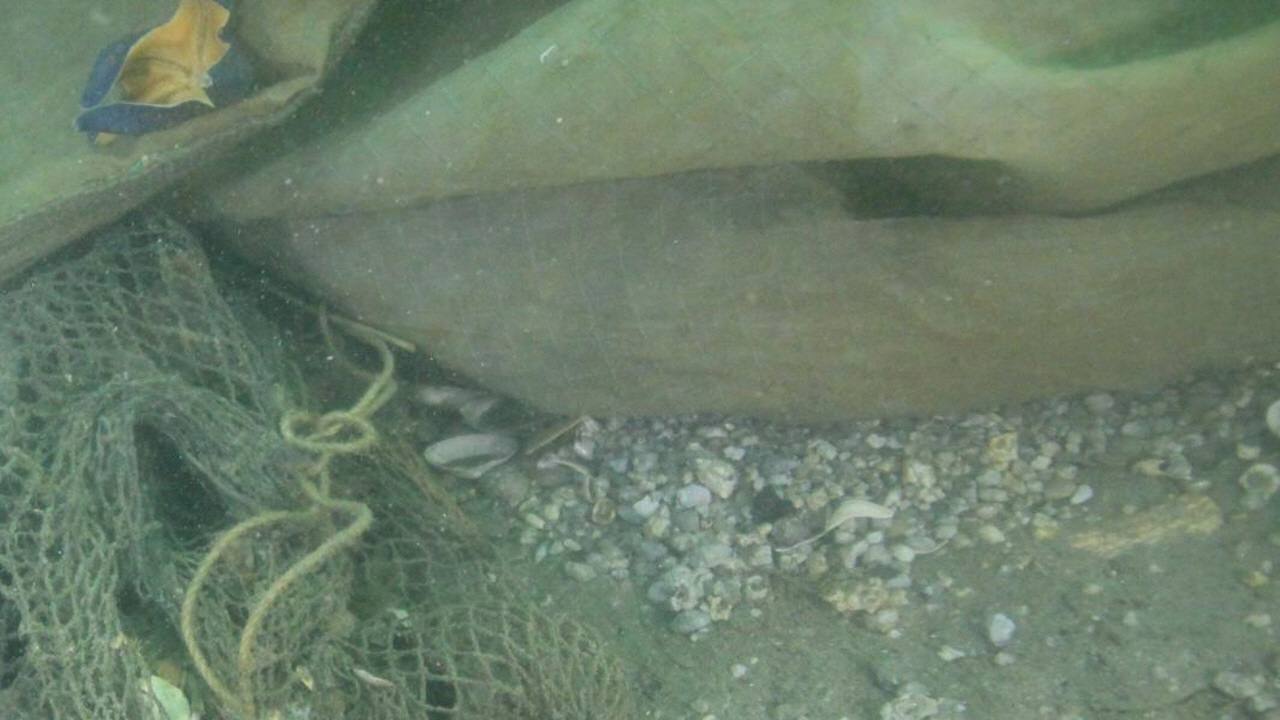fish net: (0, 212, 641, 720)
